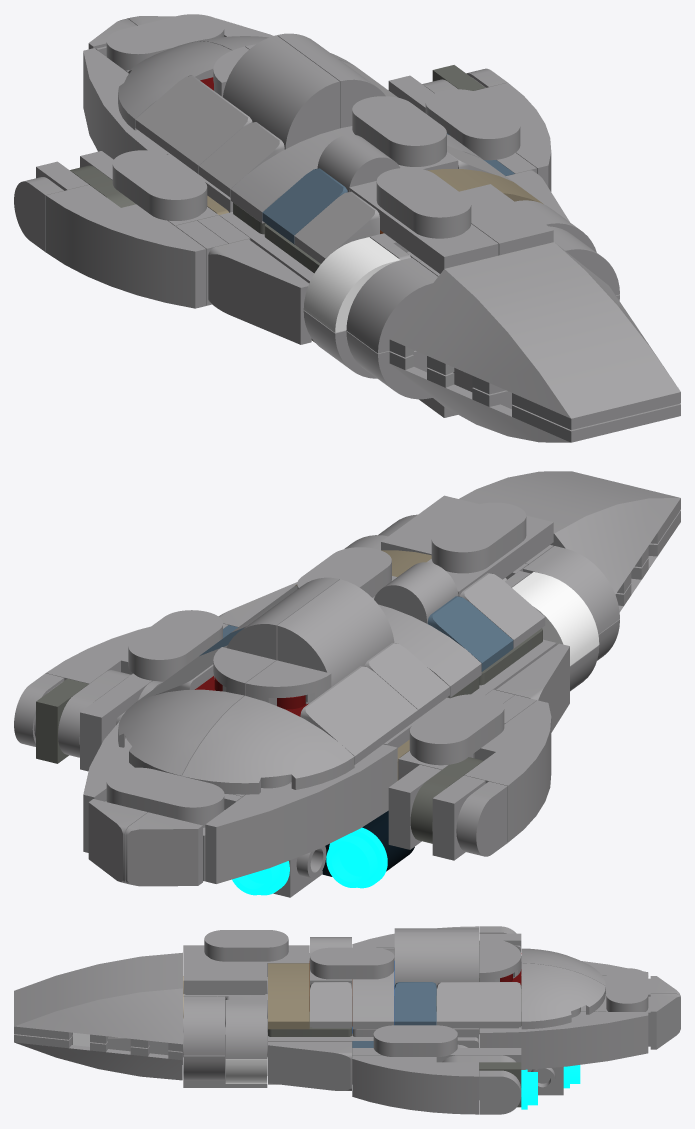
File: nano-mc80.glb
The picture shows the model from 3 angles, top to bottom: view 1: azimuth 30°, elevation 25°; view 2: azimuth 150°, elevation 25°; view 3: azimuth 270°, elevation 25°; orthographic projection. The views are drawn at different scales.
Parts seen in each view (by area): view 1: nano-mc80; view 2: nano-mc80; view 3: nano-mc80.
Boxes of the visible parts, x1,y1,x2,y2 form: nano-mc80: (14, 14, 680, 442); nano-mc80: (14, 471, 680, 897); nano-mc80: (14, 926, 680, 1114).
Size of the model in its own units: 1.68 by 0.76 by 3.15.
